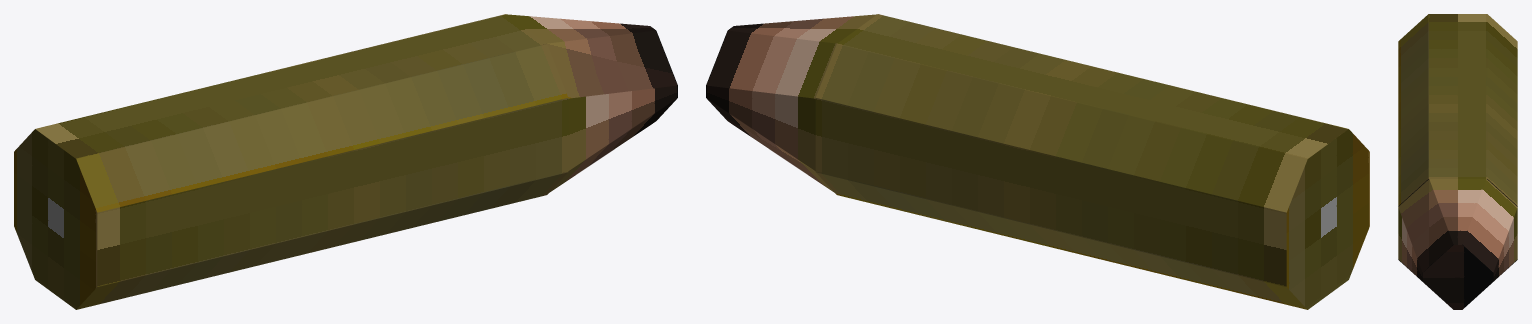
File: 357 Magnum.fbx
The picture shows the model from 3 angles, left to right: view 1: azimuth 30°, elevation 25°; view 2: azimuth 150°, elevation 25°; view 3: azimuth 270°, elevation 25°; orthographic projection. The views are drawn at different scales.
Parts seen in each view (by area): view 1: Plane, Plane.001; view 2: Plane, Plane.001; view 3: Plane, Plane.001.
Boxes of the visible parts, <box> form: Plane: <box>14,14,568,309</box>; Plane.001: <box>507,14,677,191</box>; Plane: <box>815,14,1369,309</box>; Plane.001: <box>706,14,876,191</box>; Plane: <box>1398,14,1517,277</box>; Plane.001: <box>1398,179,1517,309</box>.
Size of the model in its own units: 367 by 88.69 by 88.66.
1 material, 1 textured.
